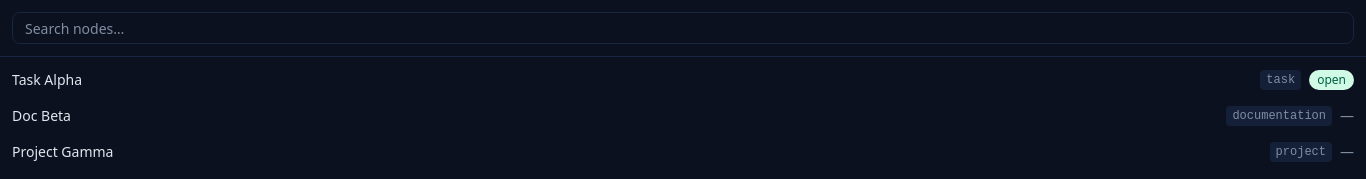
Test 8 — WikiSideNav switches to semantic results when query non-empty › positive: type "foo", debounce expires → ?query=foo in URL, semantic results render instead of neighbours
Expected: the text "Task Alpha" is shown, x1=12 y1=70 x2=82 y2=88
# Type into search using fireEvent for synchronous value update.
In the search field labelled "Search nodes…": x=683, y=28 x1=12 y1=12 x2=1354 y2=44, type "foo"
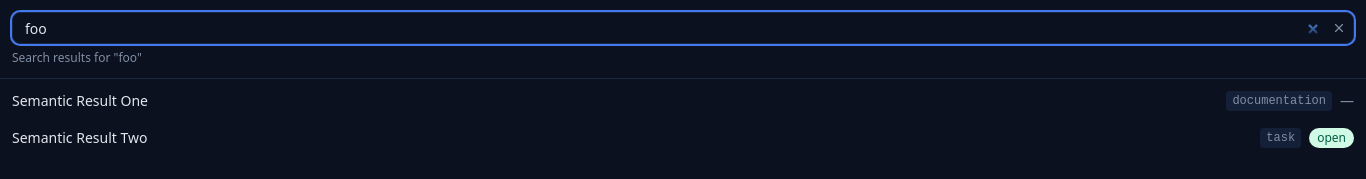
Expected: the text "Semantic Result One" is shown, x1=12 y1=91 x2=148 y2=110
Expected: the text "Semantic Result Two" is shown, x1=12 y1=128 x2=148 y2=146
Expected: the link "Task Alpha" is gone
